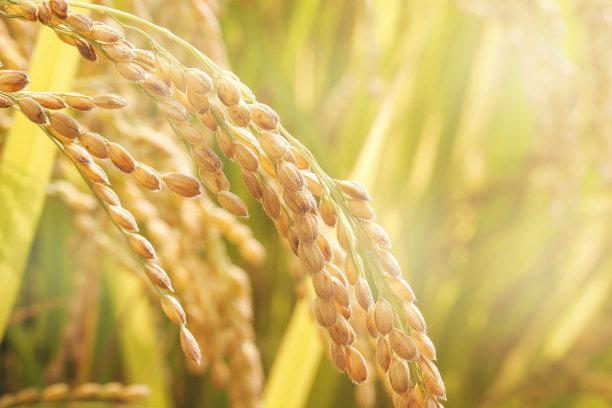rice: (8, 2, 436, 403)
